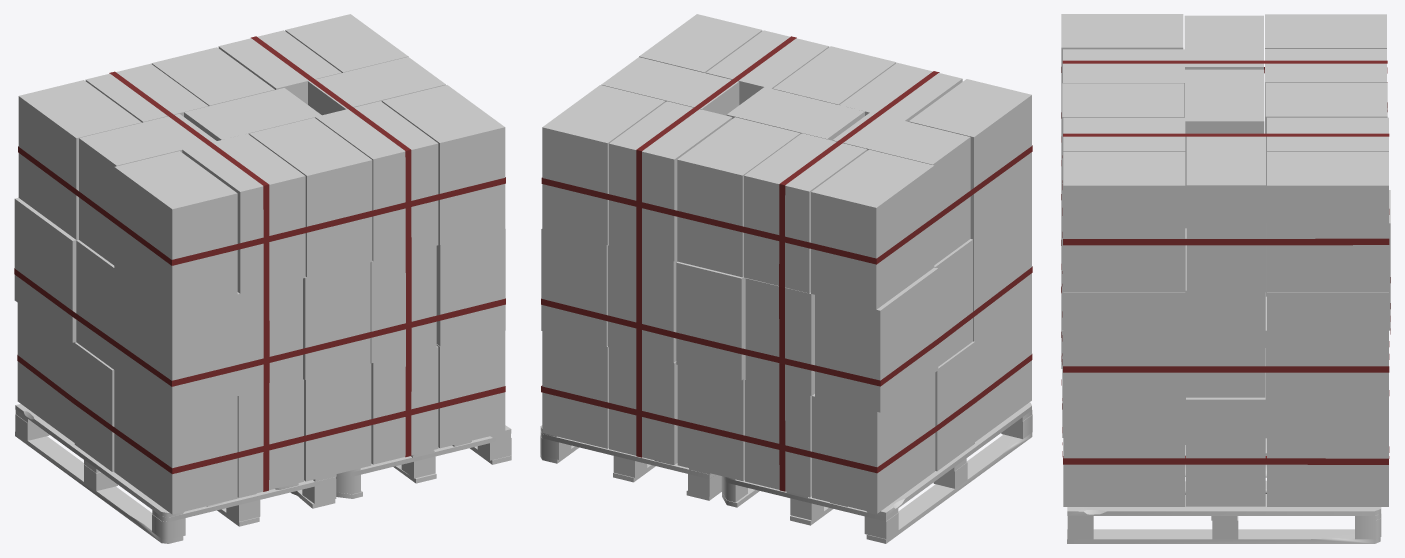
The model's file is SM_BoxesPack01.fbx.
The picture shows the model from 3 angles, left to right: view 1: azimuth 30°, elevation 25°; view 2: azimuth 150°, elevation 25°; view 3: azimuth 270°, elevation 25°; orthographic projection. The views are drawn at different scales.
Parts seen in each view (by area): view 1: Boxes01, Tapes01; view 2: Boxes01, Tapes01; view 3: Boxes01, Tapes01.
Boxes of the visible parts, bbox=[...] form: Boxes01: bbox=[14, 14, 511, 543]; Tapes01: bbox=[14, 36, 505, 491]; Boxes01: bbox=[540, 14, 1032, 543]; Tapes01: bbox=[541, 36, 1032, 491]; Boxes01: bbox=[1061, 14, 1390, 543]; Tapes01: bbox=[1061, 60, 1390, 464].
Bounding box in the file's own units: 162 × 150 × 126.
